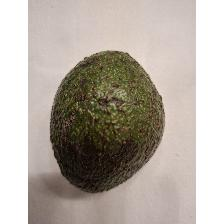Avocado: (48, 48, 168, 196)
